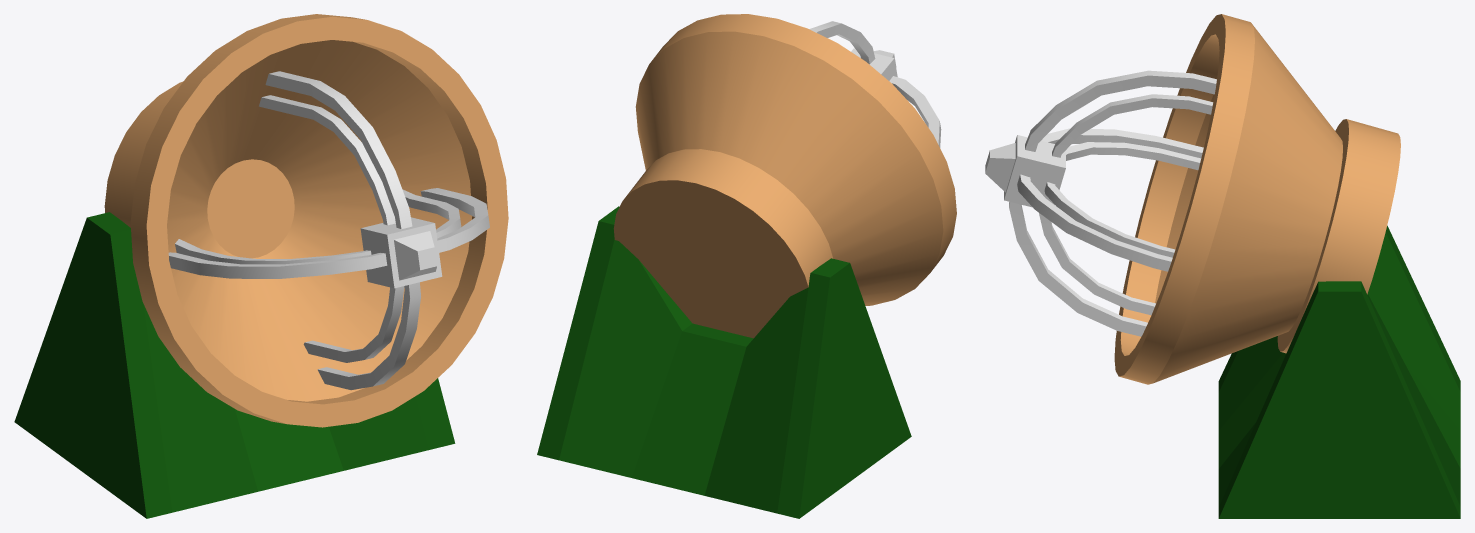
The model's file is Antena Espacio.fbx.
3 views of the same model, side by side, from view 1: azimuth 30°, elevation 25°; view 2: azimuth 150°, elevation 25°; view 3: azimuth 270°, elevation 25° (orthographic). The views are drawn at different scales.
Parts seen in each view (by area): view 1: Cylinder.062; view 2: Cylinder.062; view 3: Cylinder.062.
Boxes of the visible parts, x1=… form: Cylinder.062: x1=14, y1=14, x2=508, y2=518; Cylinder.062: x1=537, y1=14, x2=956, y2=518; Cylinder.062: x1=985, y1=14, x2=1460, y2=518.
Bounding box in the file's own units: 3.11 × 3.81 × 3.93.
